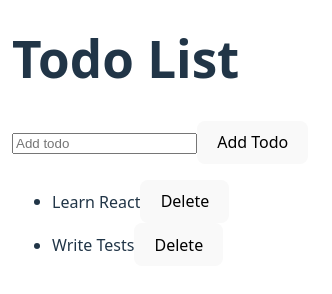
Test: TodoList Component › adds a new todo
Type "New Task" into the field with placeholder "Add todo" at (104, 144), box [12,133,197,154]
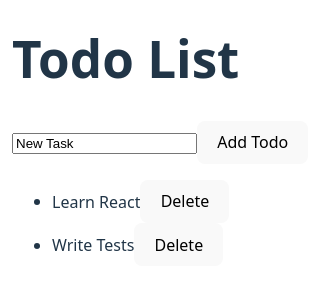
Click the button "Add Todo" at (253, 142), box [197,121,308,164]
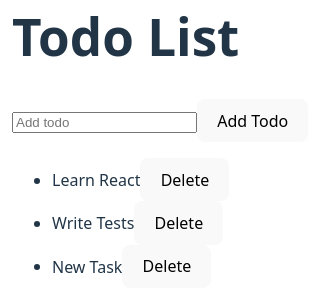
Expected: the list item "New Task" is shown, [52,255,122,277]
